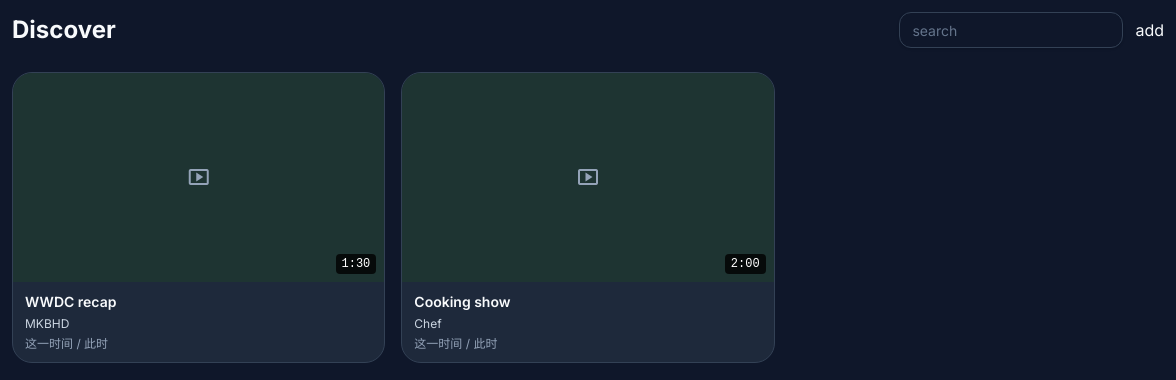
Scenario: MediaLibraryGrid › filters by search over title/channel
Type "cooking" into the field with placeholder "search". click: [1011, 30]
box: [899,12,1123,48]
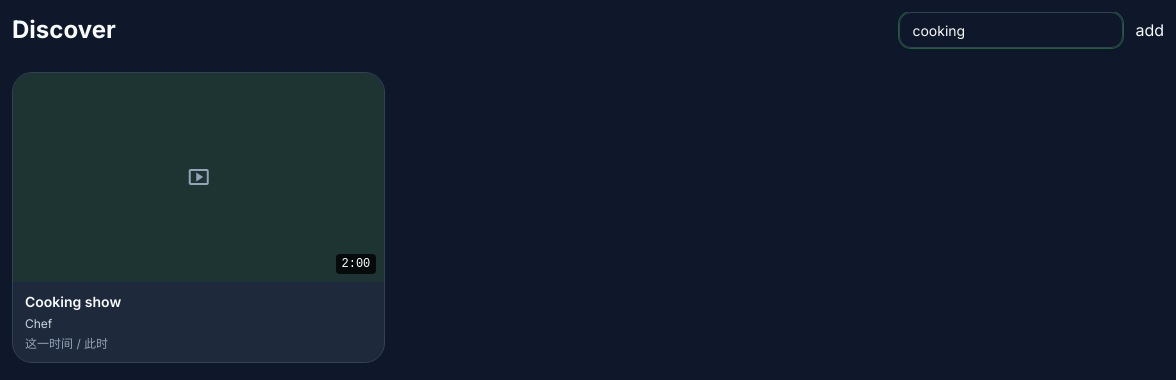
Expected: the text "Cooking show" is shown, [25,293,121,310]
Result: the link "WWDC recap" is gone
